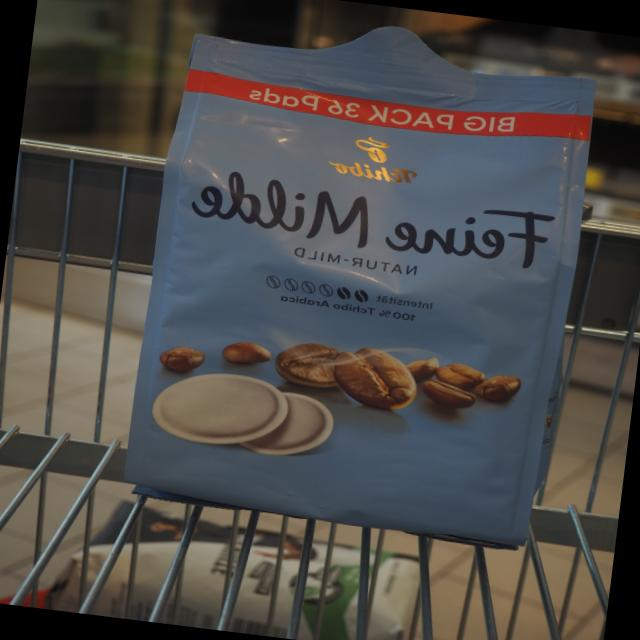FM 36 Pads: (109, 0, 616, 560)
